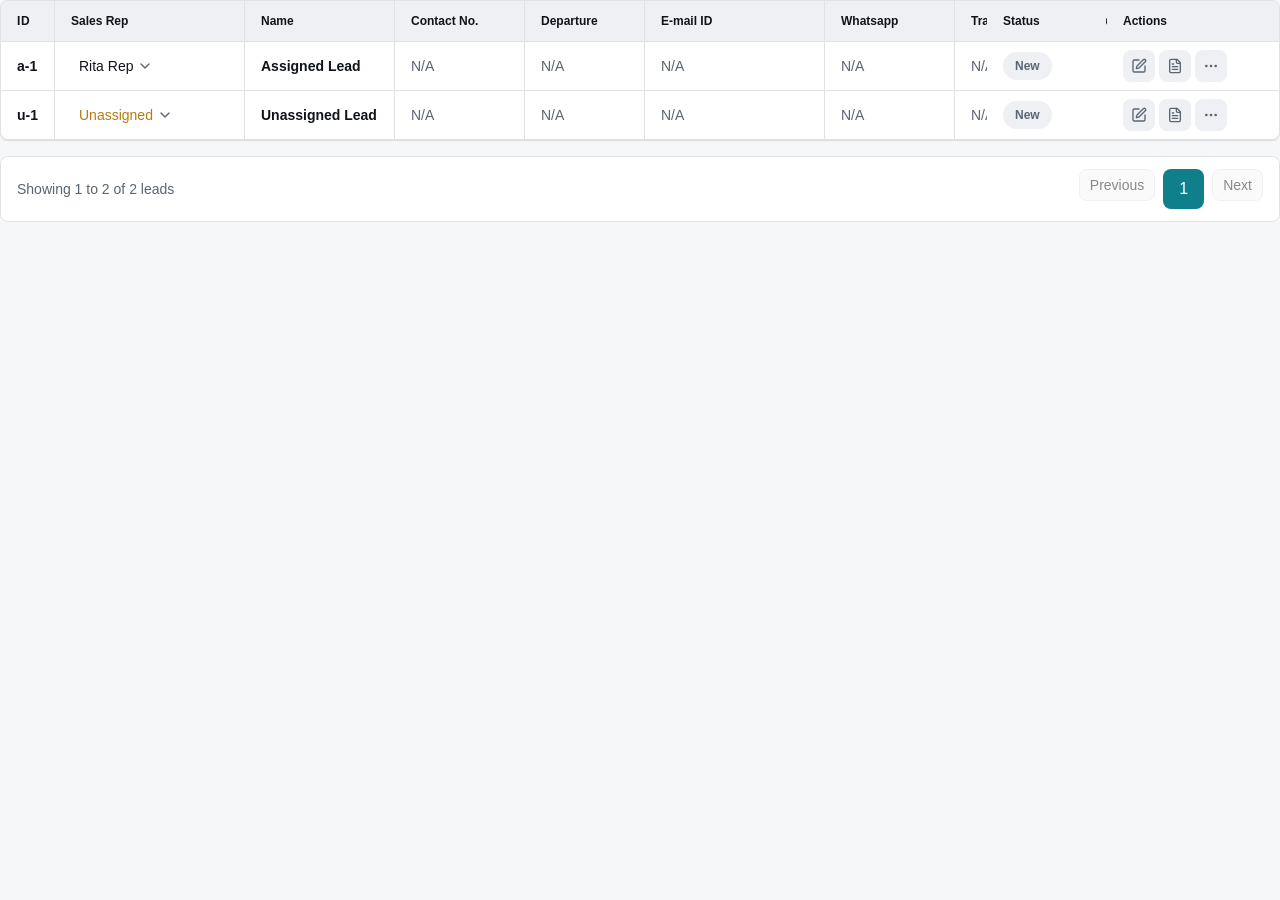
Test: LeadTable — Sales Rep column › offers the change control on an assigned lead for an admin
Click the button with aria-label "change assignee" at (116, 66), box [71, 50, 162, 82]
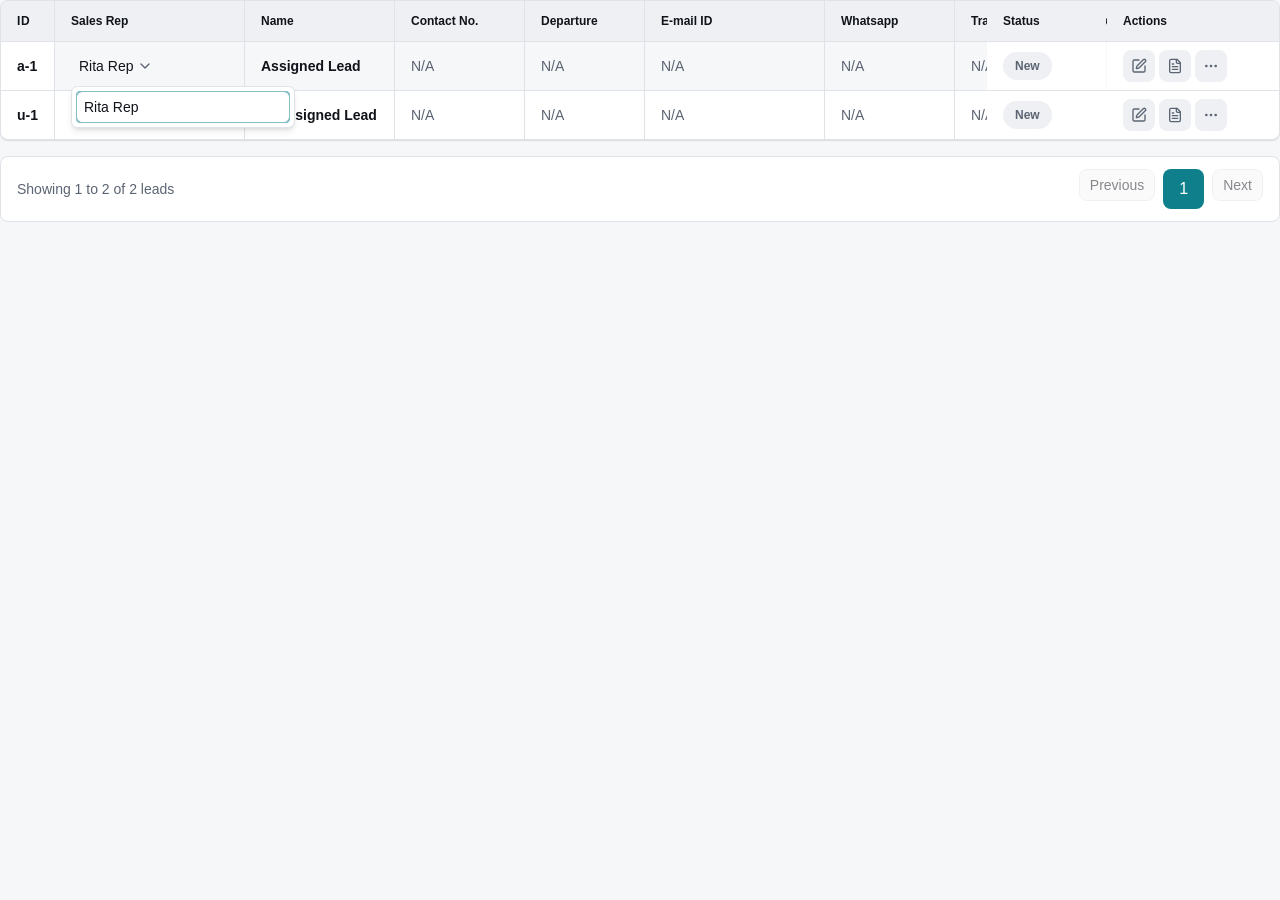
expect the 2nd button "Rita Rep" is shown: met, box [76, 91, 290, 123]
